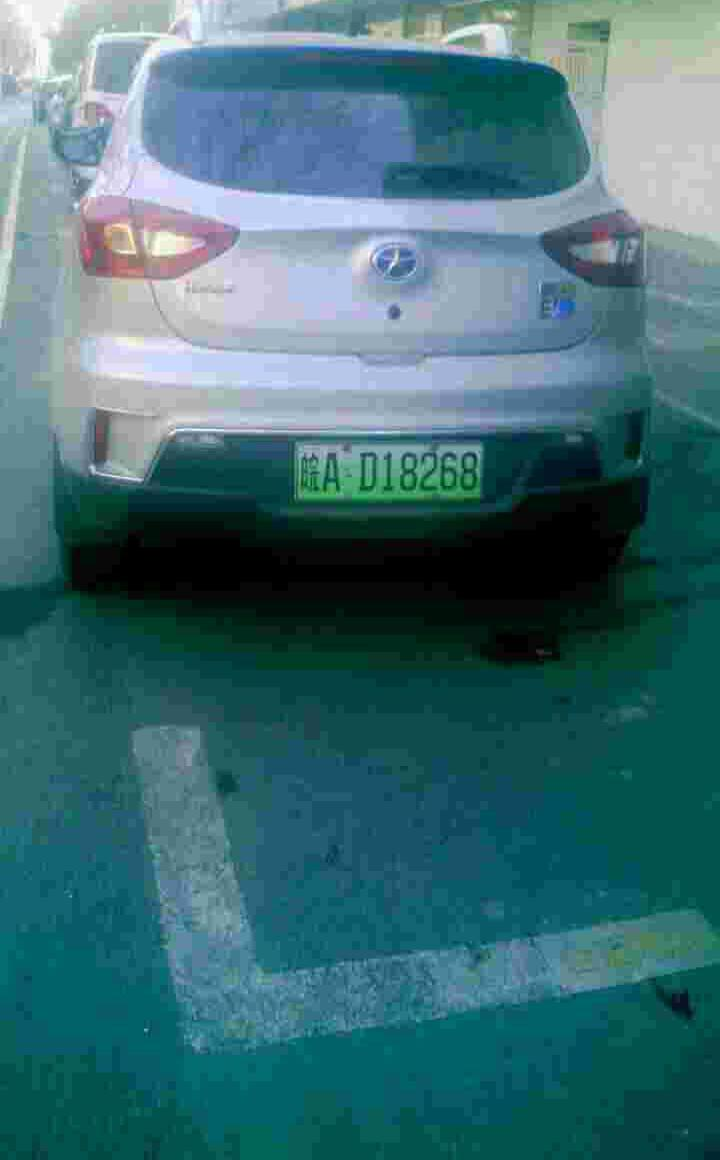car: (288, 440, 492, 508)
